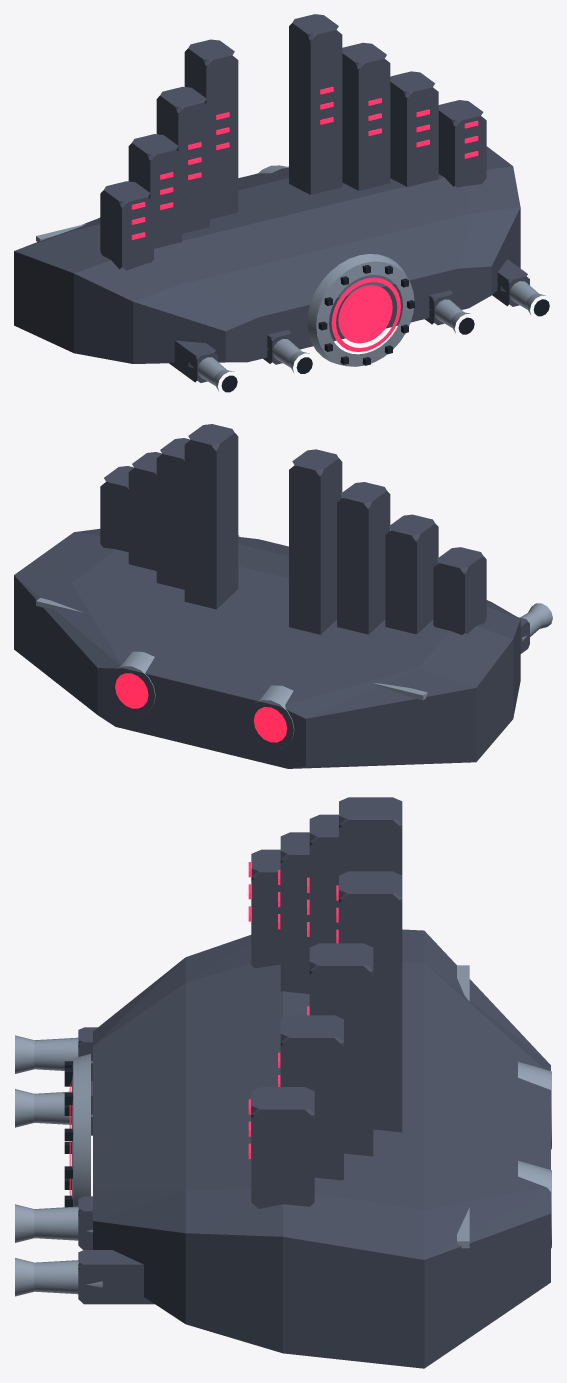
The model's file is sovereign_citadel.glb.
The picture shows the model from 3 angles, top to bottom: view 1: azimuth 30°, elevation 25°; view 2: azimuth 150°, elevation 25°; view 3: azimuth 270°, elevation 25°; orthographic projection. The views are drawn at different scales.
Visible parts, largest first — view 1: Citadel, Reactor; view 2: Citadel; view 3: Citadel.
Boxes of the visible parts, <box> form: Citadel: <box>14,14,549,392</box>; Reactor: <box>331,277,400,351</box>; Citadel: <box>14,424,552,768</box>; Citadel: <box>15,797,551,1368</box>.
Size of the model in its own units: 8 by 4.25 by 5.53.
